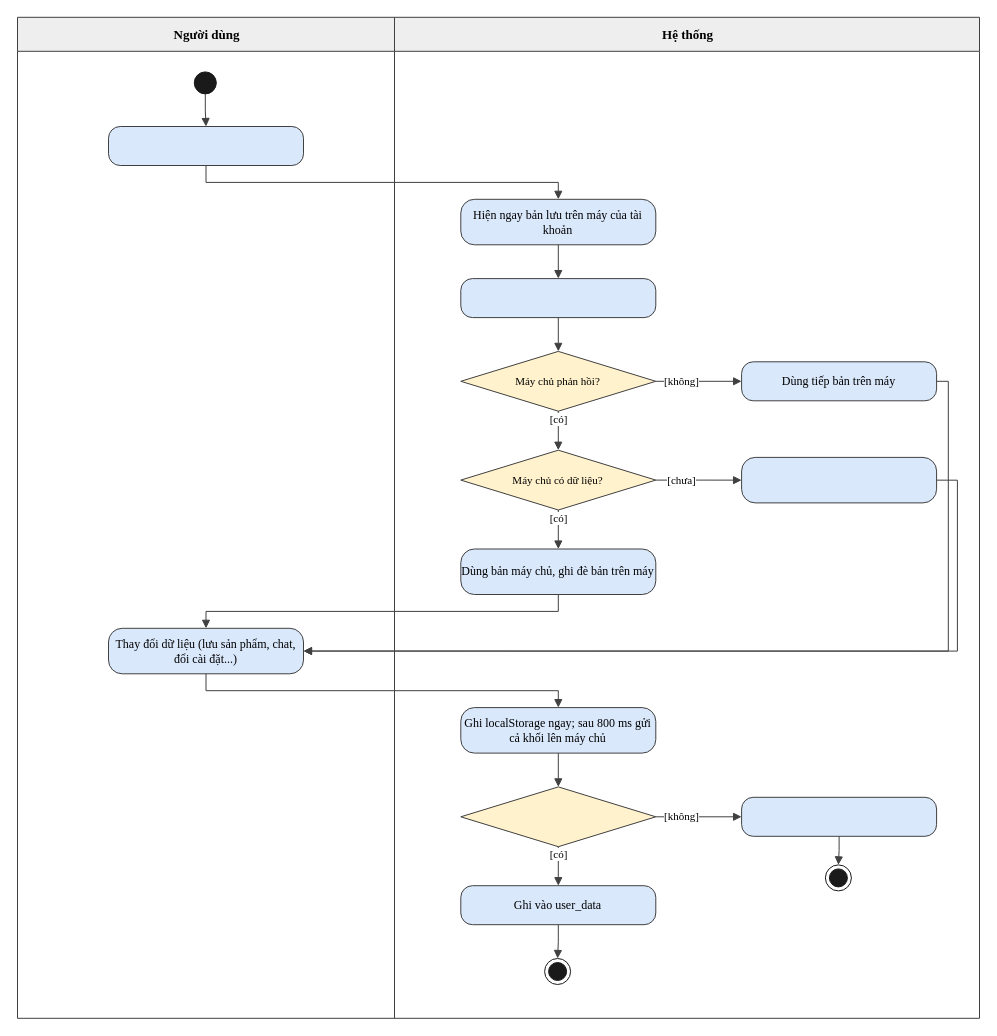
Some shapes in this 997 by 1036 pixel diagram are drawn without their labels. Each missing label, with the centre of its shape:
"Chuyển dữ liệu dùng trước khi có tài khoản lên máy chủ" belongs at [839,479].
"Khóa hợp lệ, ≤ 2 MB?" belongs at [558,816].
"Mở ứng dụng sau khi đăng nhập" belongs at [206,146].
"Tải bản trên máy chủ" belongs at [558,298].
"Từ chối, giữ bản trên máy" belongs at [839,816].
